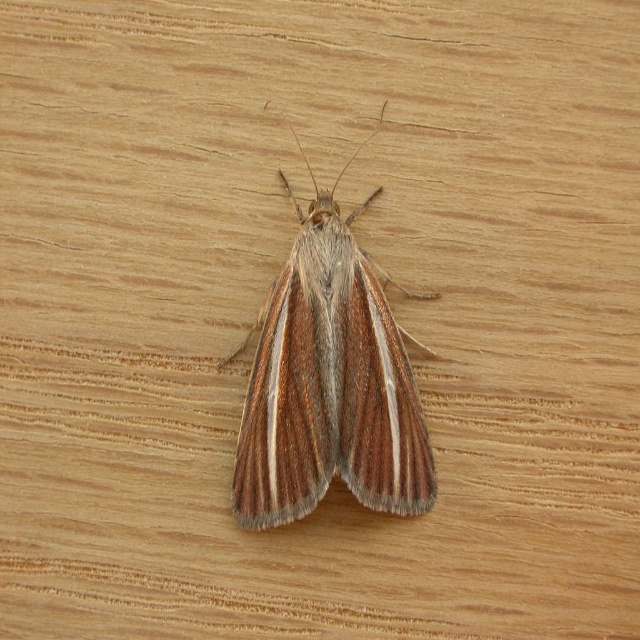Moths and butterflies: (211, 98, 470, 532)
